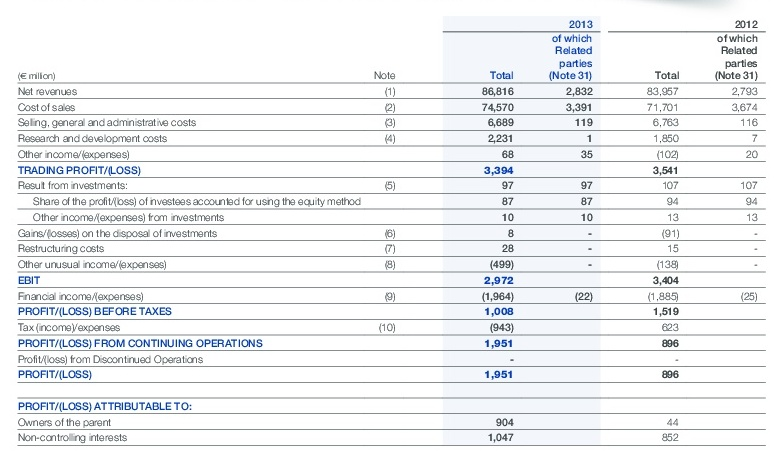table: (0, 0, 780, 467)
